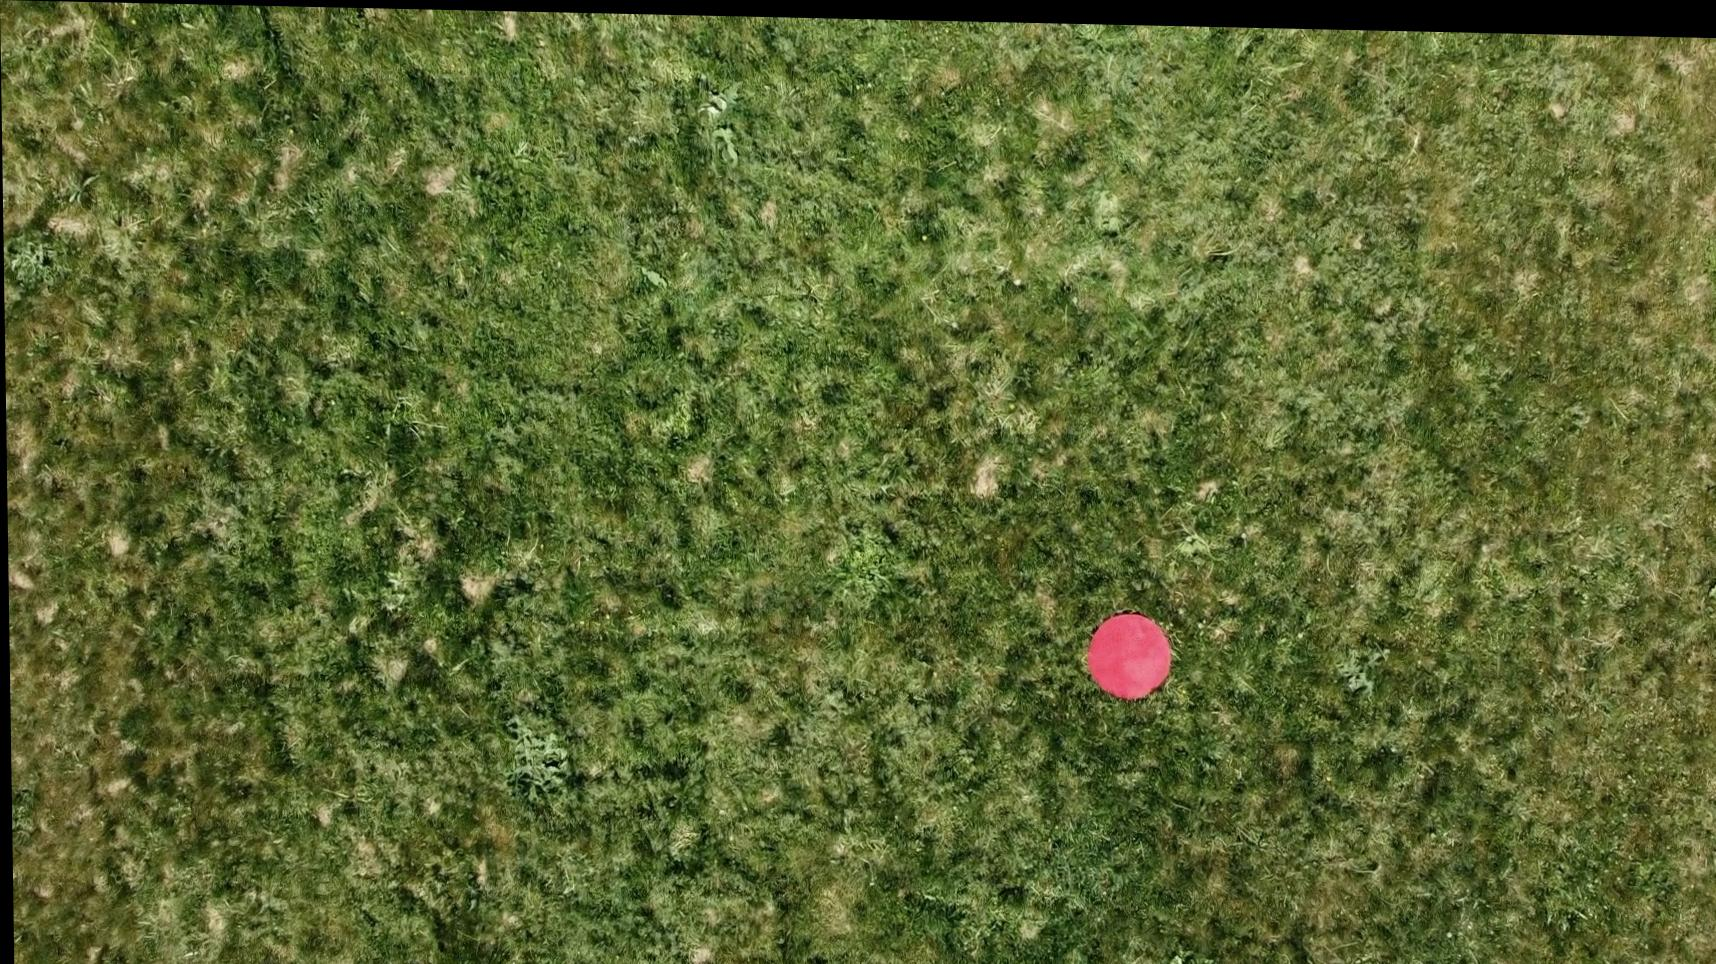Red: (1081, 605, 1176, 698)
